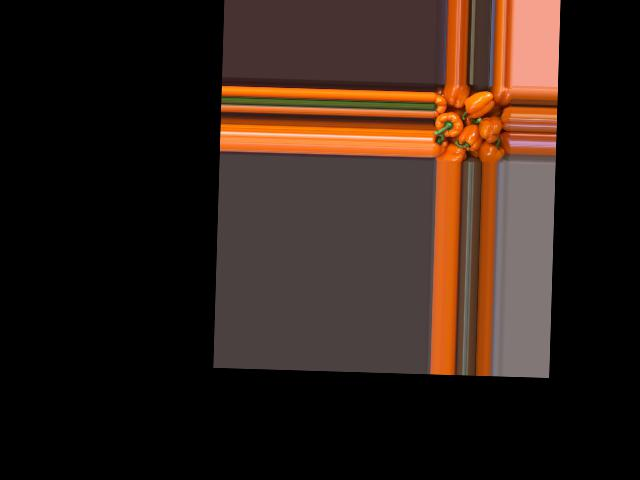bell_pepper: (493, 125, 511, 156)
